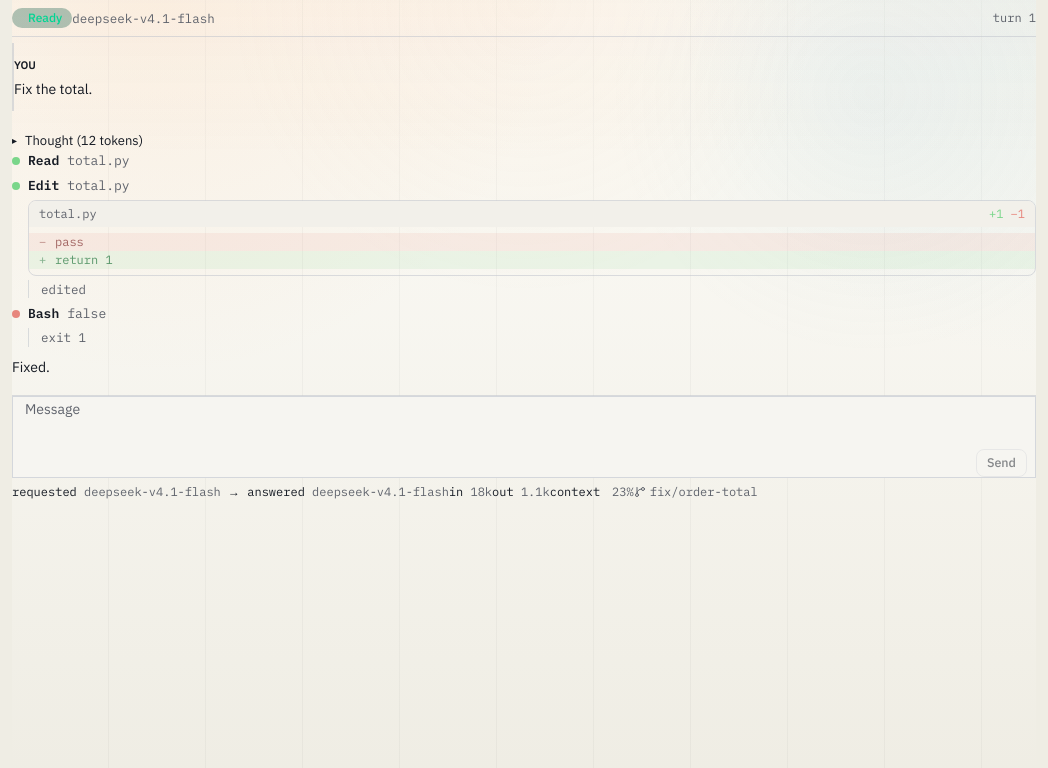
Scenario: the transcript layout › folds thinking as "Thought" and opens it on click
The image size is (1048, 768).
Click the button with test id "thinking-toggle" at (78, 141), box [12,131,143,150]
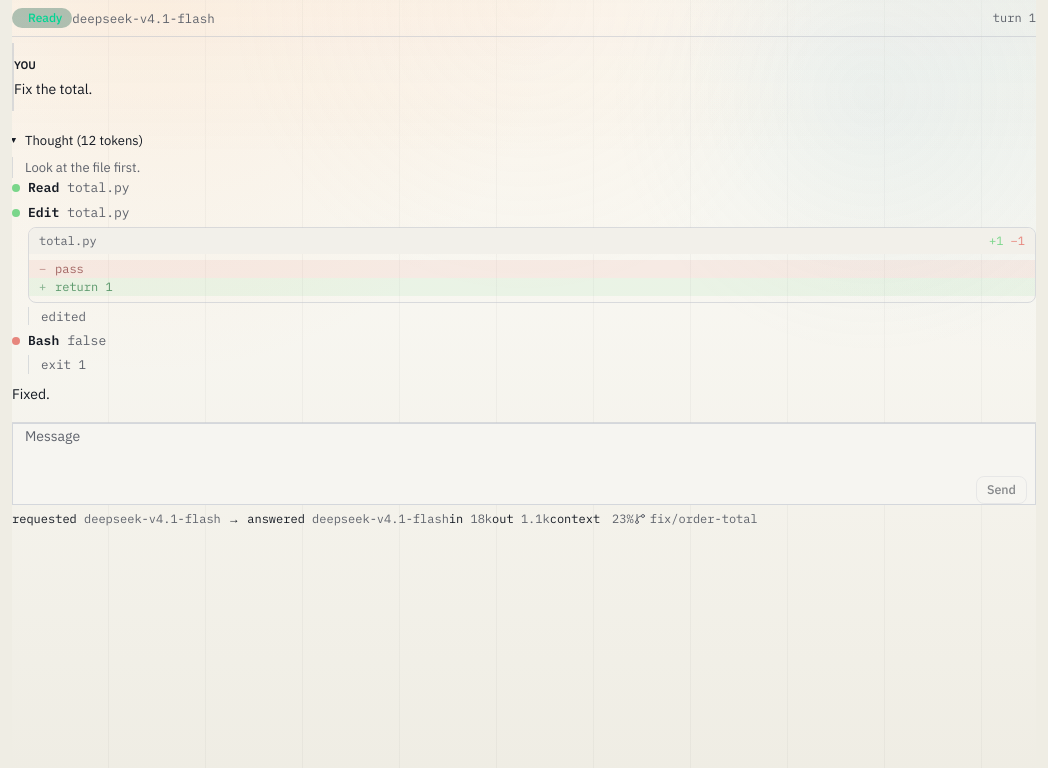
Expected: the text with test id "thinking-body" reads "Look at the file first.", [25,158,140,176]
